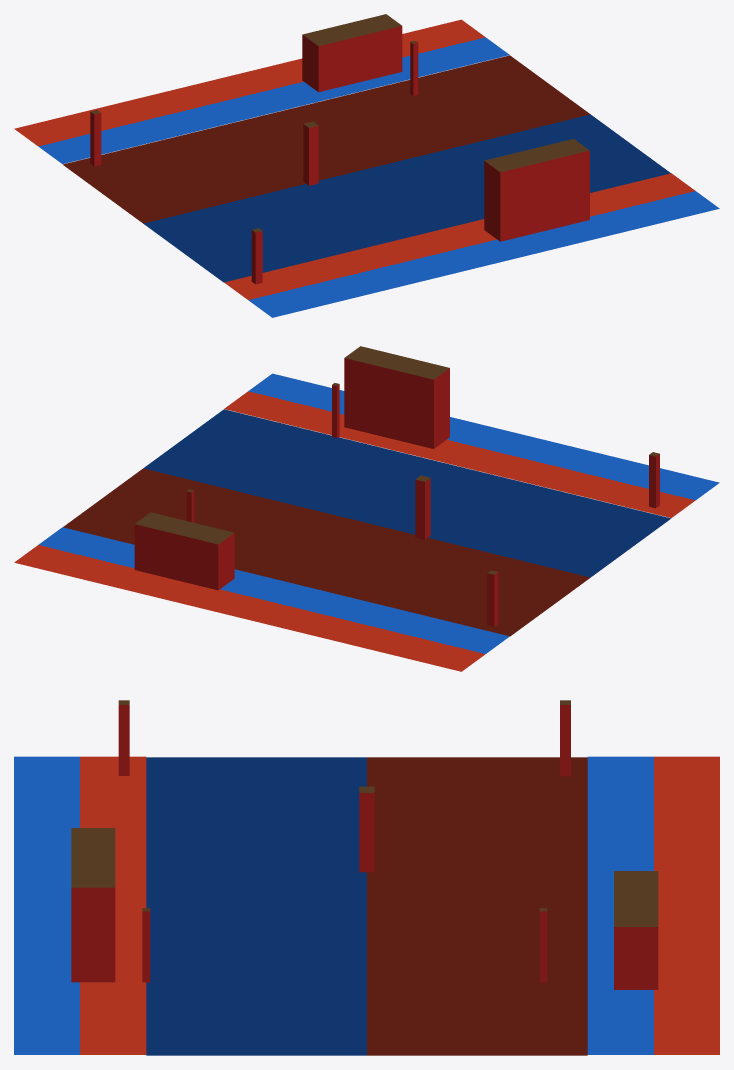
Rendered from district.gltf.
3 renders of one model, top to bottom at view 1: azimuth 30°, elevation 25°; view 2: azimuth 150°, elevation 25°; view 3: azimuth 270°, elevation 25°, orthographic. The views are drawn at different scales.
Parts seen in each view (by area): view 1: EastRoadAndSidewalks, MarketBody, TransitBody, AlleyMarker, SouthGatePost, NorthGatePost; view 2: EastRoadAndSidewalks, MarketBody, TransitBody, AlleyMarker, SouthGatePost, NorthGatePost; view 3: EastRoadAndSidewalks, MarketBody, TransitBody, AlleyMarker, NorthGatePost, SouthGatePost, MarketBeacon, TransitBeacon.
Boxes of the visible parts, bbox=[...] form: EastRoadAndSidewalks: bbox=[14, 19, 719, 317]; MarketBody: bbox=[484, 139, 589, 241]; TransitBody: bbox=[302, 14, 402, 92]; AlleyMarker: bbox=[303, 121, 318, 185]; SouthGatePost: bbox=[90, 110, 101, 166]; NorthGatePost: bbox=[251, 228, 262, 284]; EastRoadAndSidewalks: bbox=[14, 373, 719, 671]; MarketBody: bbox=[344, 346, 449, 448]; TransitBody: bbox=[134, 512, 234, 590]; AlleyMarker: bbox=[415, 475, 430, 539]; SouthGatePost: bbox=[487, 570, 498, 626]; NorthGatePost: bbox=[649, 452, 659, 508]; EastRoadAndSidewalks: bbox=[14, 756, 719, 1055]; MarketBody: bbox=[71, 828, 115, 982]; TransitBody: bbox=[614, 871, 658, 989]; AlleyMarker: bbox=[359, 786, 374, 872]; NorthGatePost: bbox=[118, 700, 129, 775]; SouthGatePost: bbox=[560, 700, 570, 776]; MarketBeacon: bbox=[142, 908, 150, 982]; TransitBeacon: bbox=[539, 908, 547, 982].
Bounding box in the file's own units: 16 × 2.4 × 16.
Materials: 4 (4 with a texture image).
